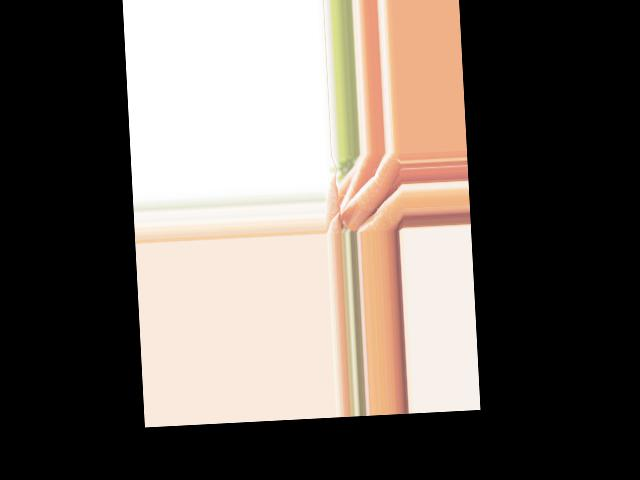carrot: (333, 161, 378, 215)
